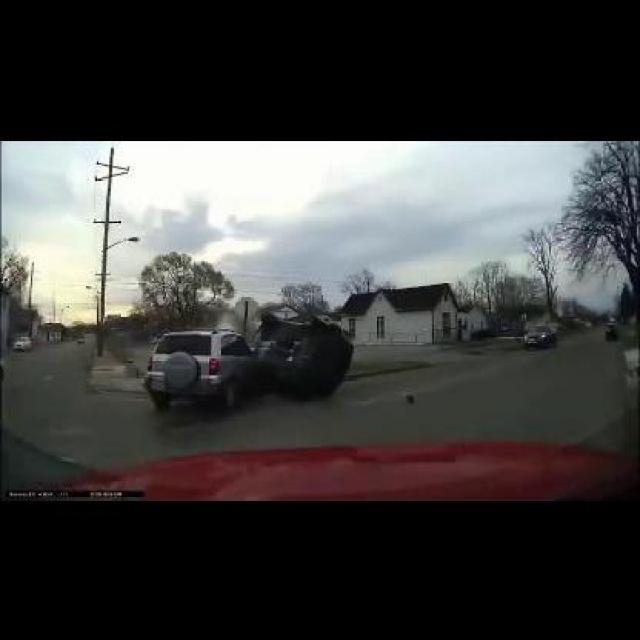accident: (141, 297, 357, 420)
